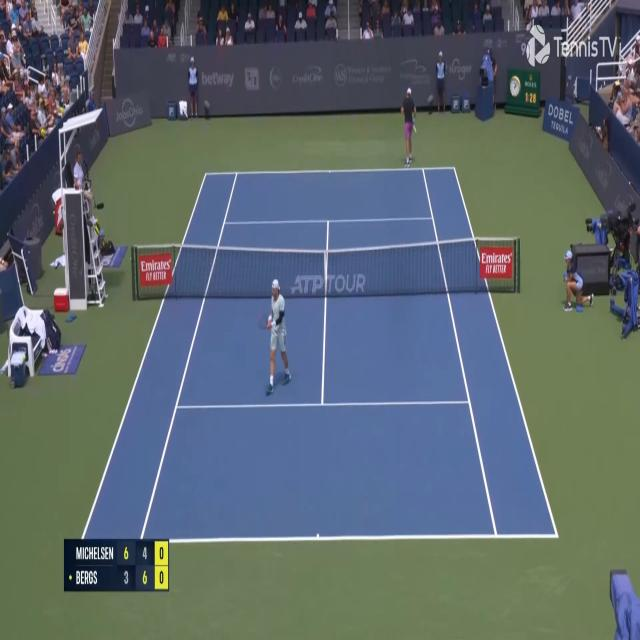tennis-player: (263, 275, 294, 396), (399, 85, 418, 169)
